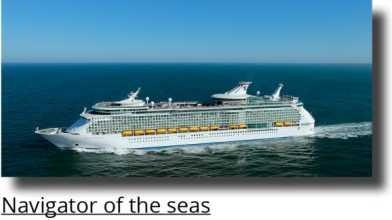youlun: (29, 74, 317, 152)
